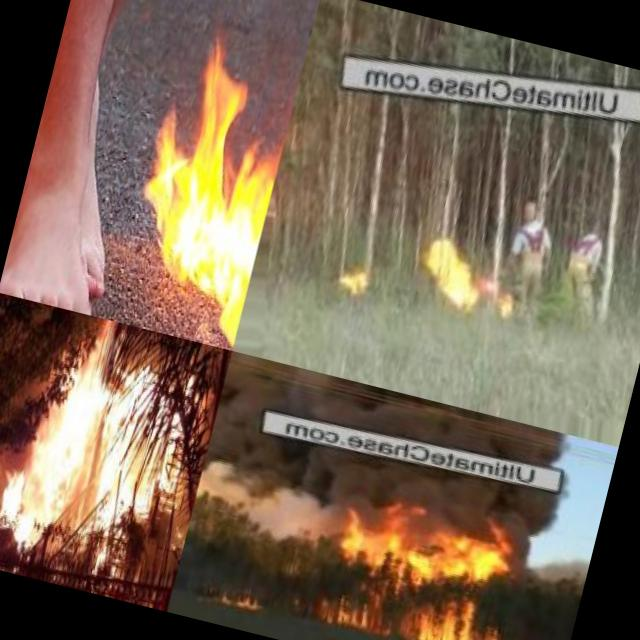fire: (95, 6, 309, 350), (0, 298, 201, 578), (322, 491, 519, 640), (407, 231, 492, 316), (207, 586, 268, 618), (338, 257, 378, 297), (488, 286, 520, 324)
smoke: (190, 428, 356, 550)
